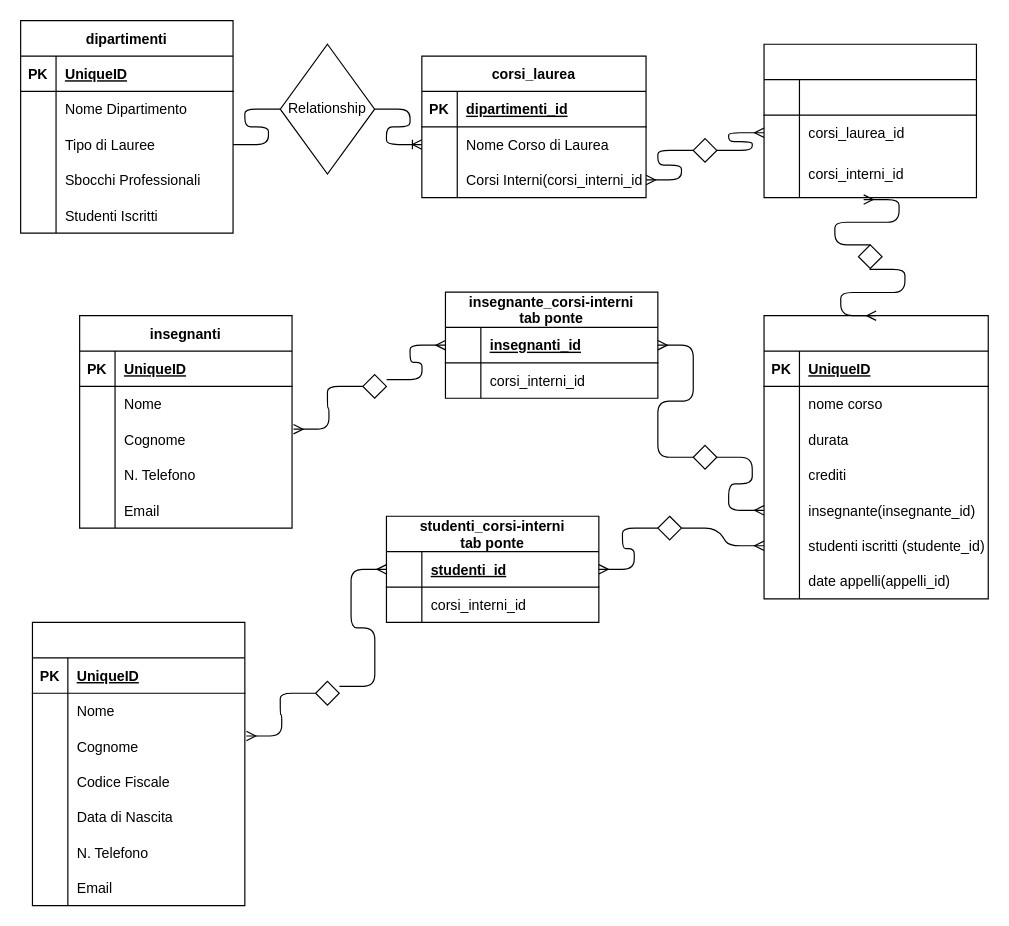
Some shapes in this 1009 by 926 pixel diagram are drawn without their labels. The box of each missing label's shape, as (x1, y1, x2, y2) in pixels:
corsi-laurea_corsi-interni tab ponte: (763, 43, 976, 198)
corsi_interni: (763, 314, 988, 599)
studenti: (31, 621, 245, 906)
